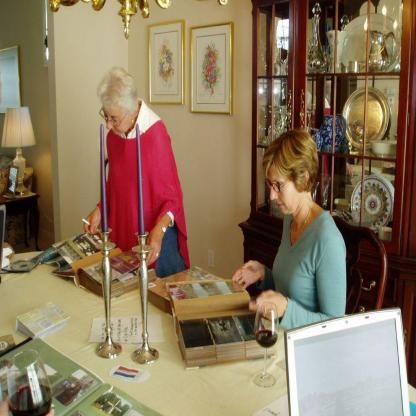board: (282, 310, 409, 416)
